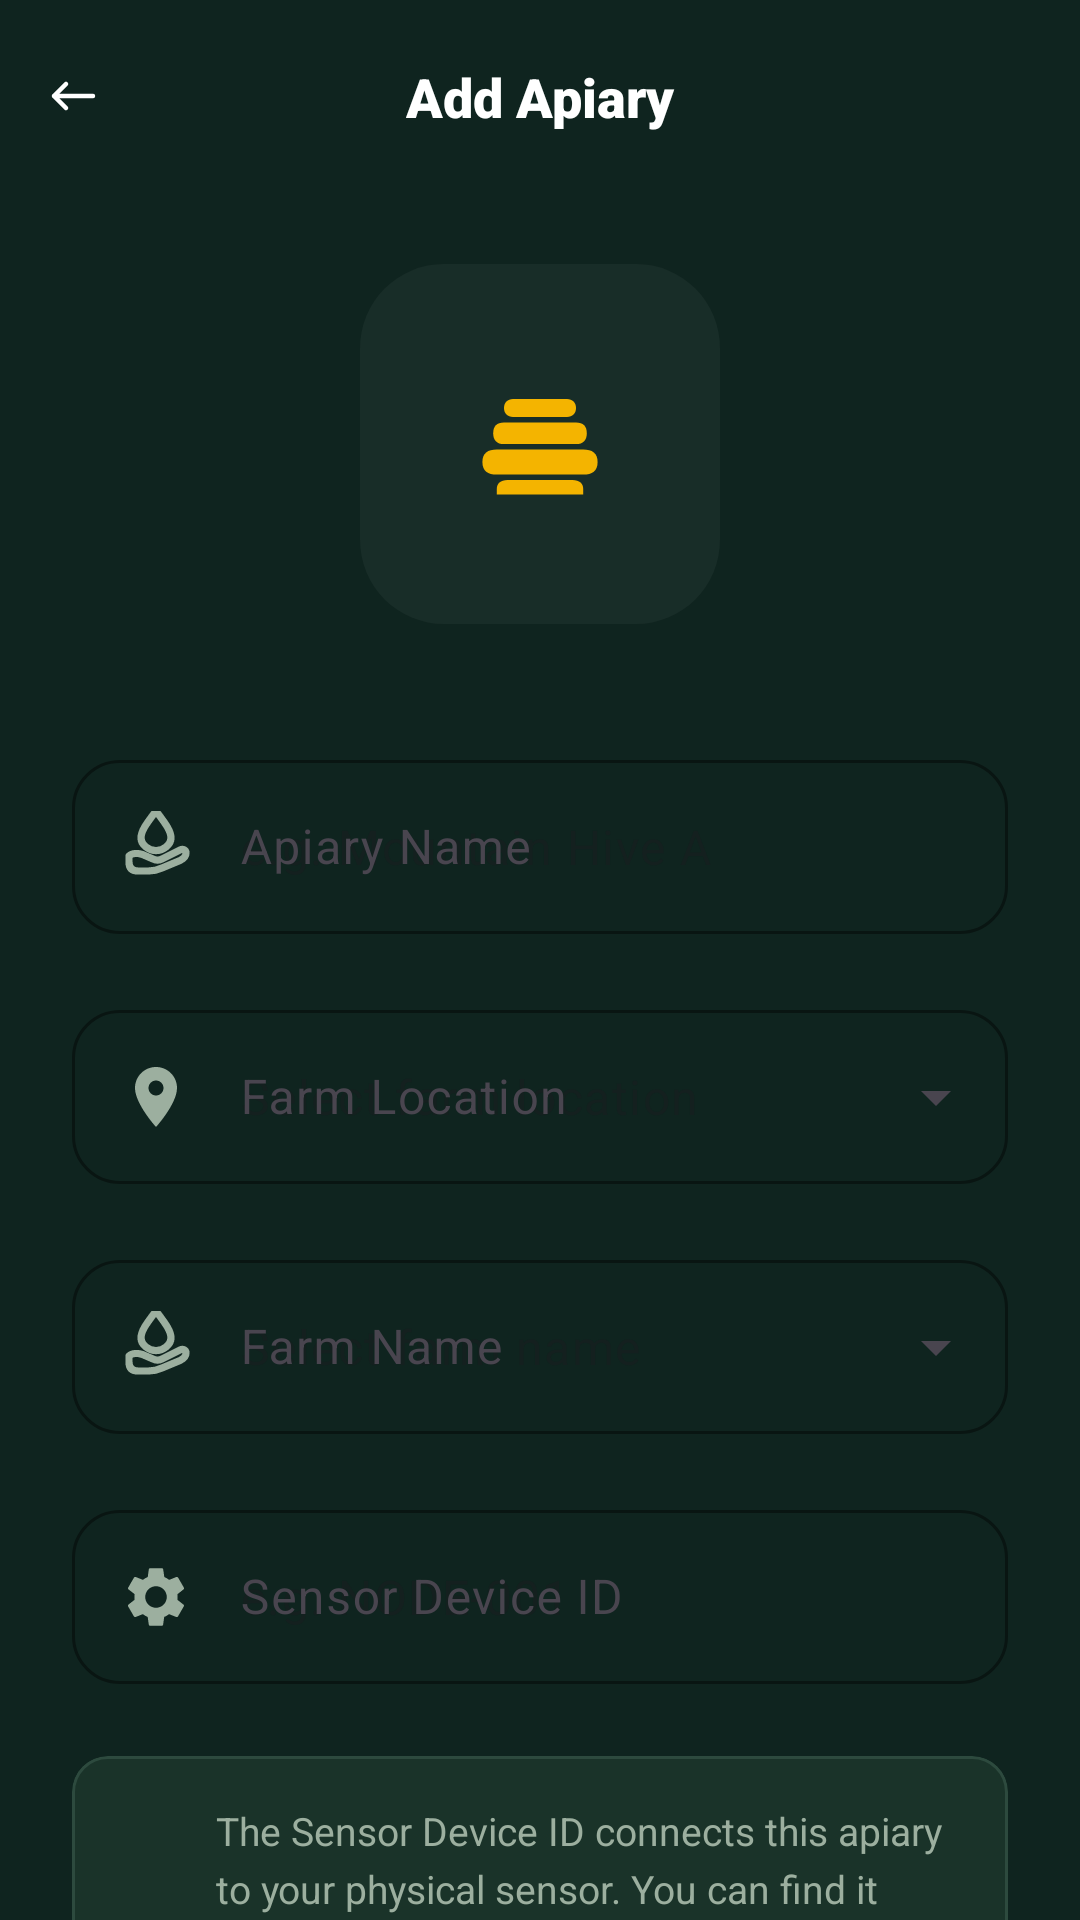

Icon bounding boxes for this 1080 x 1920 phone screenshot, format (x1, y1, x2, y2):
back: (51, 81, 95, 111)
